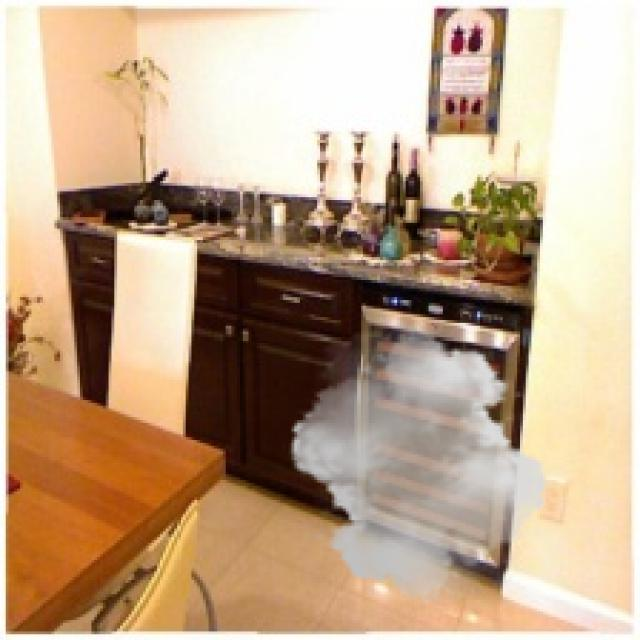smoke: (280, 326, 557, 606)
